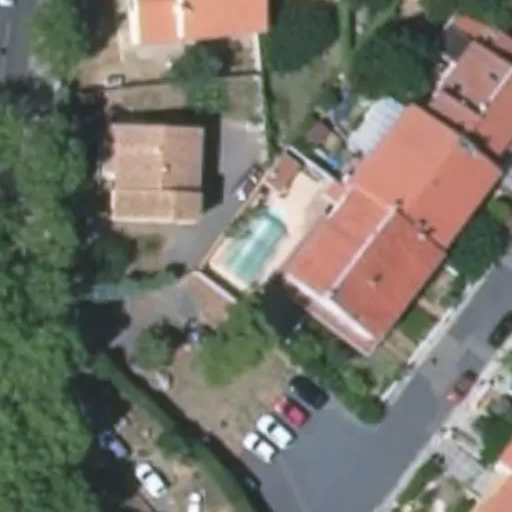pool: (219, 207, 282, 291)
